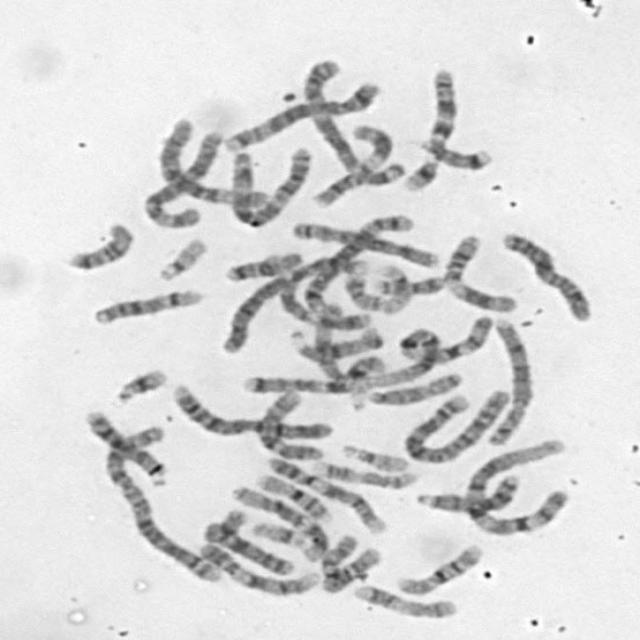A1: (459, 432, 575, 538), (392, 310, 495, 366)
A2: (98, 417, 229, 585), (400, 383, 516, 464)
A3: (296, 52, 402, 186), (224, 142, 316, 230)
B4: (217, 250, 372, 356), (165, 378, 337, 442)
B5: (217, 75, 385, 154), (306, 210, 420, 314)
C10: (252, 386, 326, 462), (316, 534, 383, 594)
C11: (308, 120, 397, 209), (438, 229, 520, 314)
C12: (227, 480, 331, 562), (274, 261, 364, 334)
C6: (154, 112, 274, 209), (137, 123, 226, 230)
C7: (418, 65, 494, 172), (240, 349, 388, 397)
C8: (286, 218, 438, 270), (483, 314, 538, 448)
C9: (257, 453, 388, 534), (192, 538, 322, 598)
D13: (79, 404, 172, 488), (410, 470, 522, 515)
D14: (86, 283, 206, 327), (287, 323, 386, 363)
D15: (361, 367, 467, 407), (287, 323, 388, 363)
E16: (392, 539, 488, 597), (252, 469, 334, 522)
E17: (350, 578, 460, 620), (308, 455, 418, 490)
E18: (61, 218, 136, 272), (220, 246, 306, 283)
F19: (371, 260, 413, 316), (247, 516, 312, 550)
F20: (339, 270, 389, 312), (372, 270, 448, 296)
G21: (108, 363, 171, 405), (398, 154, 442, 192)
G22: (152, 232, 210, 282), (337, 438, 413, 474)
X: (496, 226, 595, 324), (197, 509, 300, 578)
